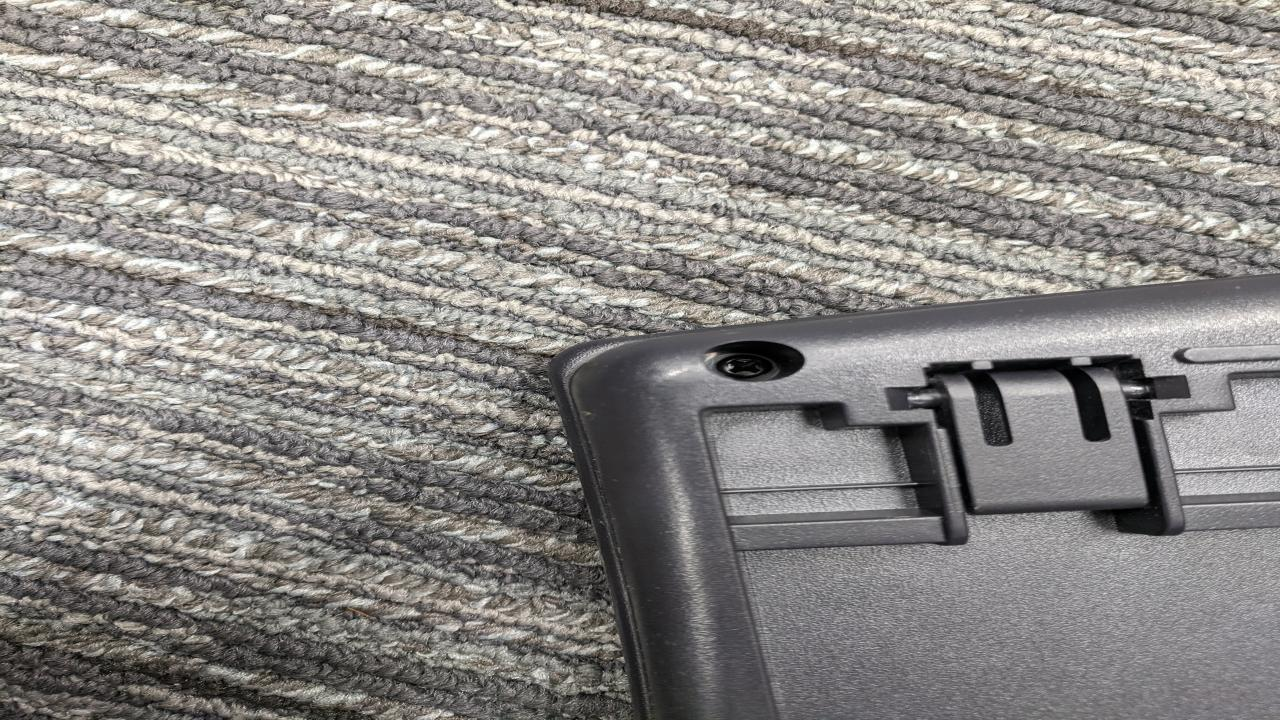CRS: (718, 353, 776, 381)
